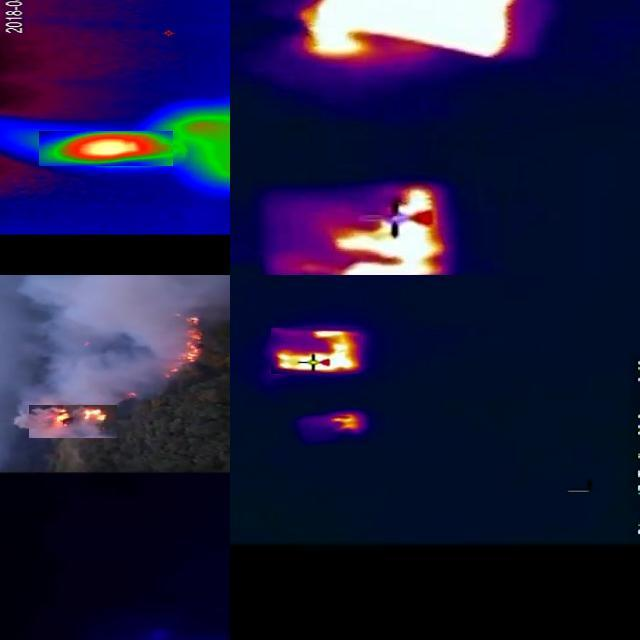fire: (301, 1, 542, 57), (313, 184, 448, 276), (40, 131, 174, 166), (272, 328, 362, 374), (325, 410, 369, 432)
